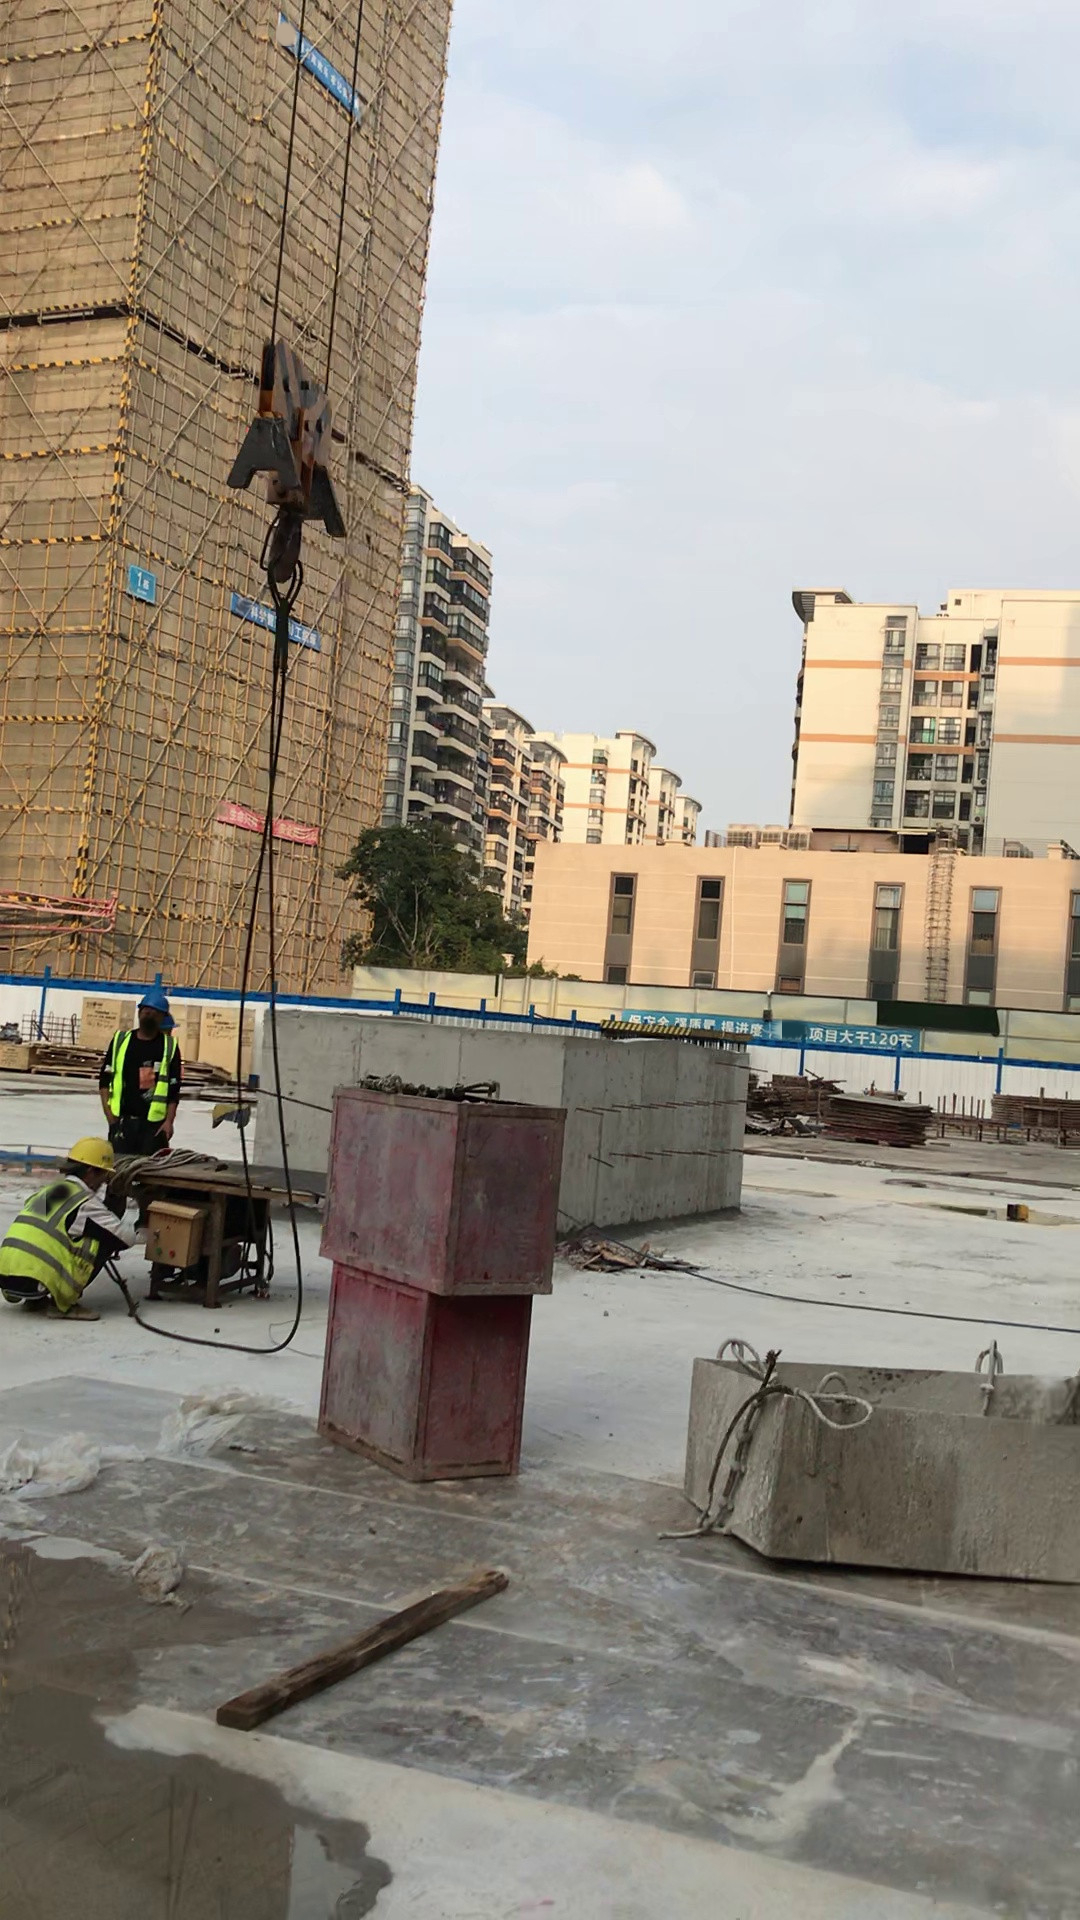cutter: (53, 1139, 335, 1316)
helmet: (69, 1132, 118, 1171), (136, 989, 171, 1015)
hook: (222, 323, 344, 588)
person: (1, 1132, 134, 1321), (100, 987, 187, 1161)
slogan: (283, 19, 356, 112), (224, 595, 320, 650), (228, 799, 320, 853), (628, 1015, 777, 1041)
vest: (3, 1177, 118, 1306), (110, 1023, 178, 1124)
